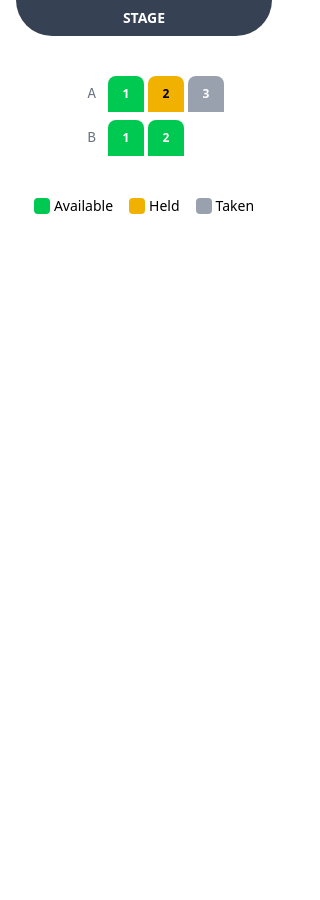
Test case: SeatMap › shows 'Seat unavailable' toast when clicking a held seat
Click the cell with test id "seat-A-2": point(166, 94) [148, 76, 184, 112]
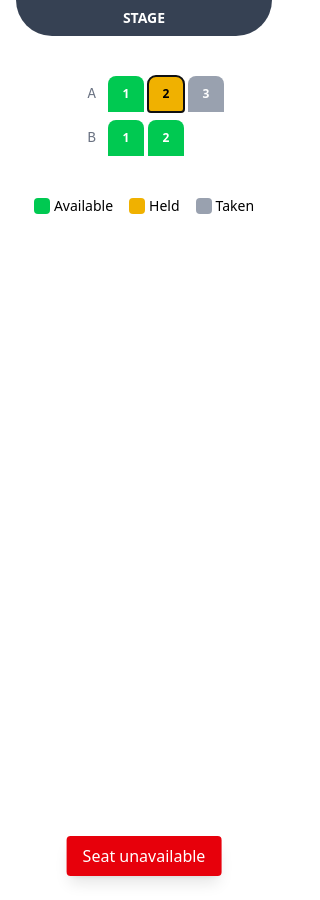
Expected: the message reads "Seat unavailable", [83, 845, 205, 867]
